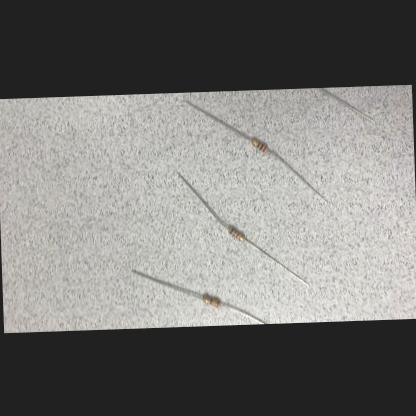resistor: (228, 225, 246, 241), (252, 136, 268, 152), (202, 294, 219, 308)
wire: (269, 146, 327, 204), (245, 236, 309, 287), (178, 170, 227, 230), (186, 97, 250, 142), (131, 266, 202, 300), (322, 86, 375, 124), (221, 301, 266, 325)
